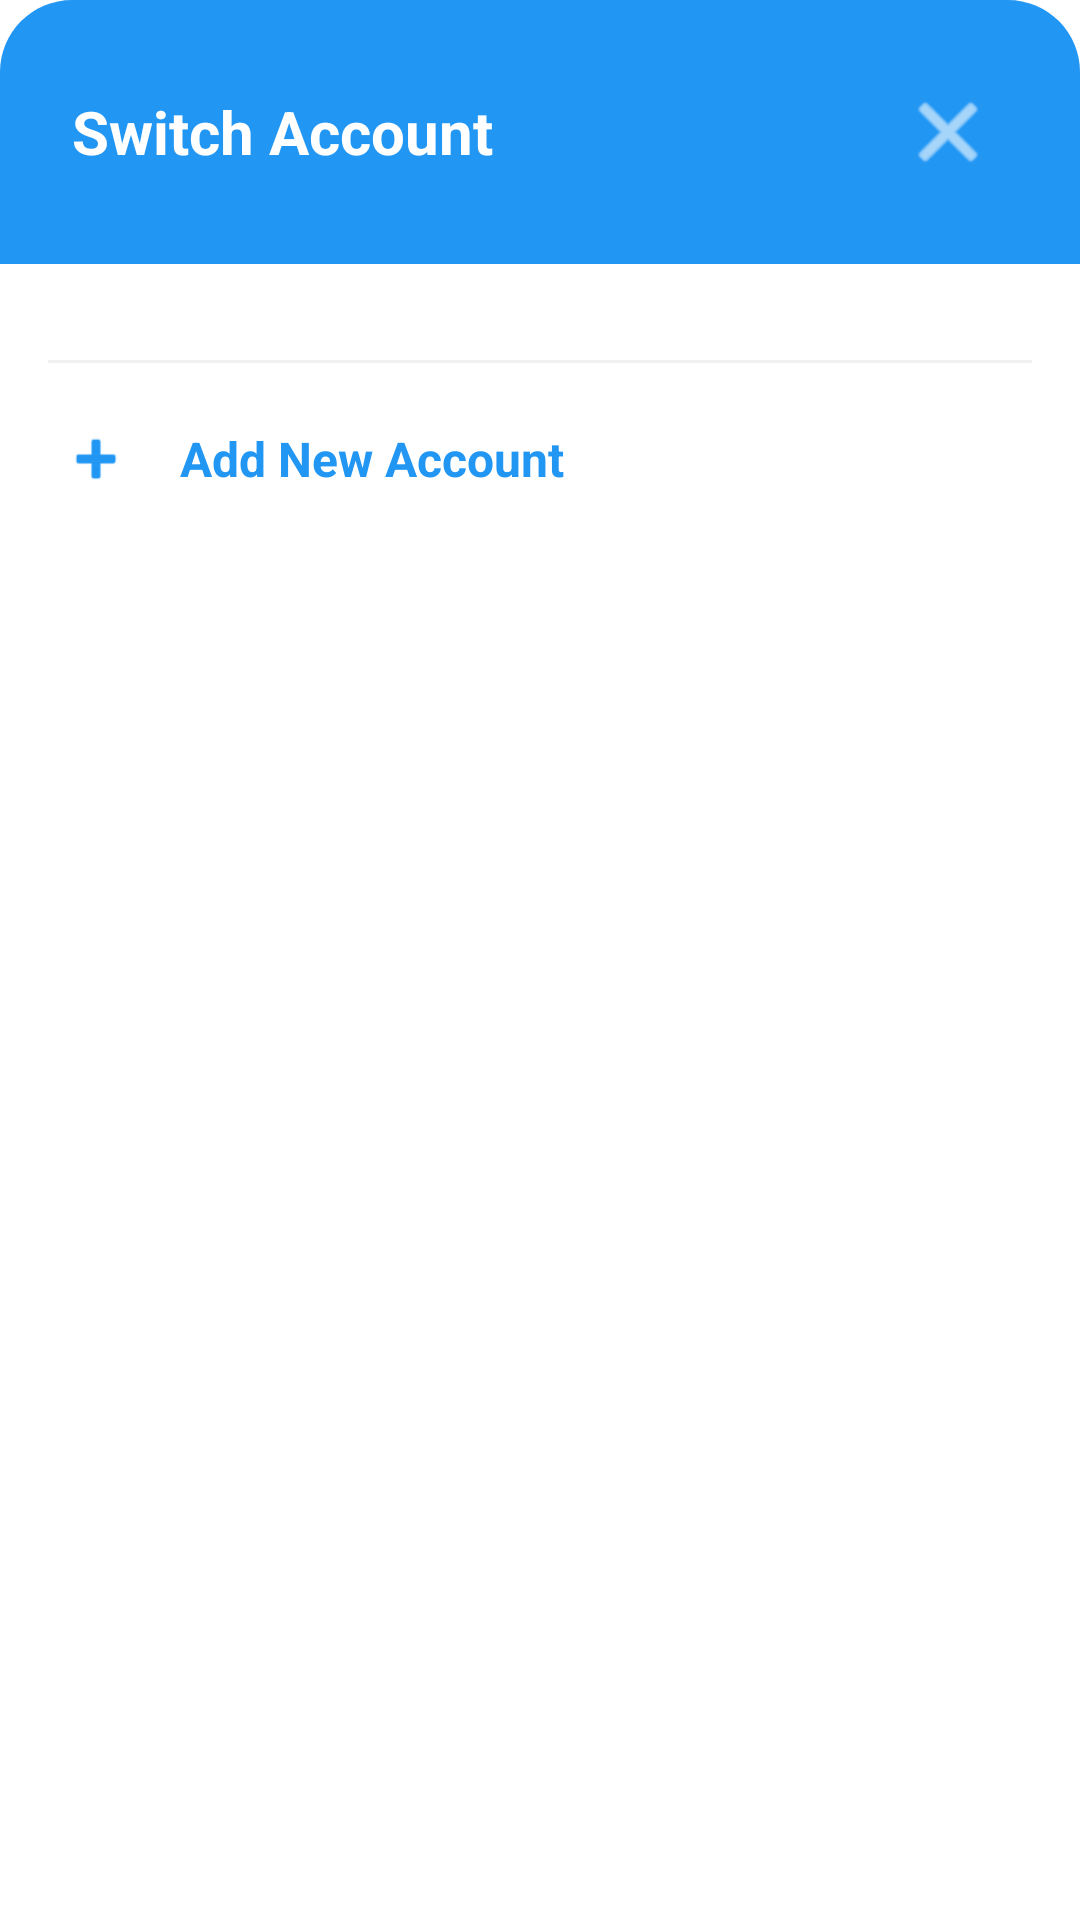

Where to tap for icons on this 1080*1920 app screen, as point (x, y):
Close: point (948, 132)
